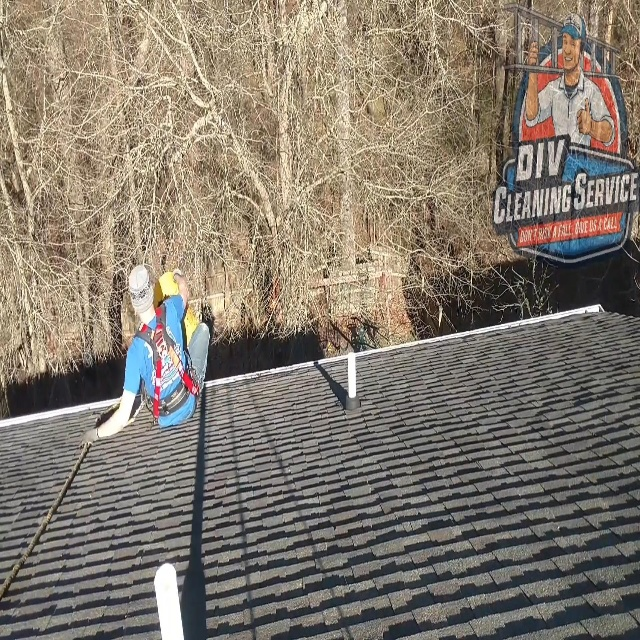Arnes_seguridad: (134, 299, 201, 429)
